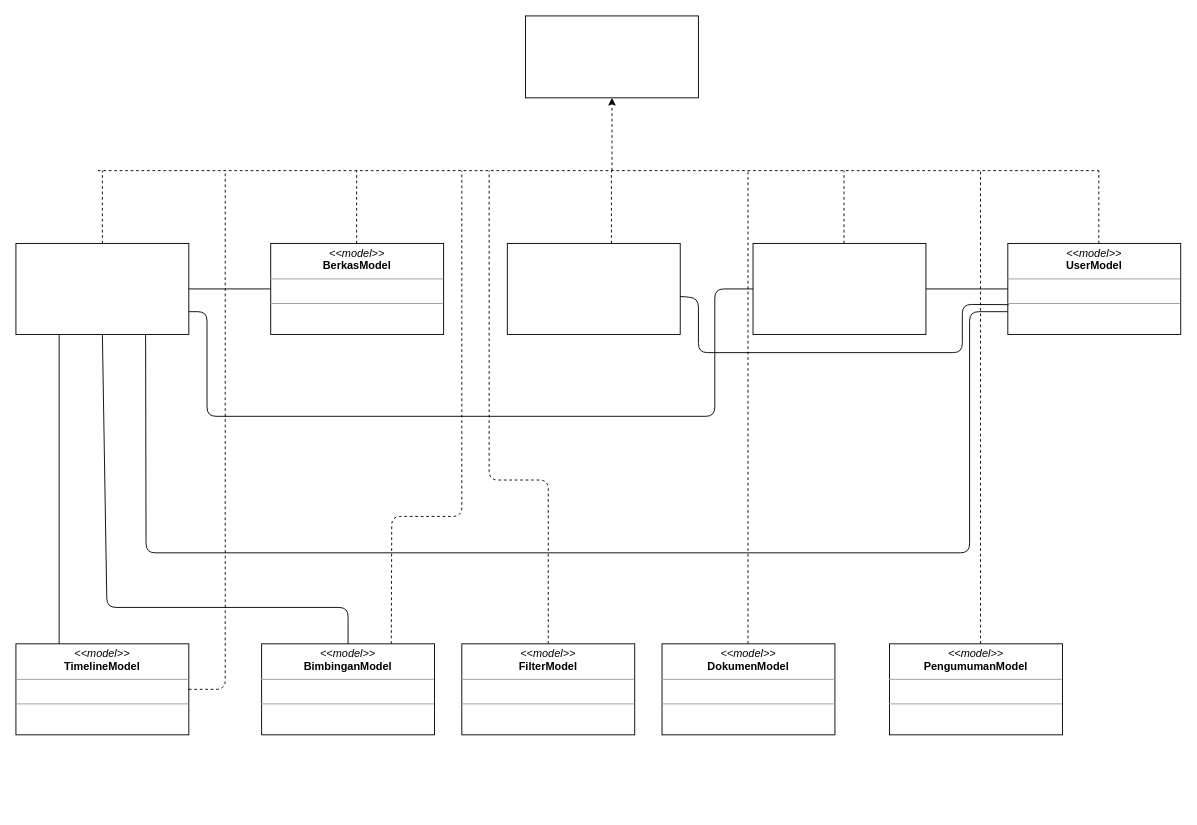
Some shapes in this 1197 by 825 pixel diagram are drawn without their labels. The centre of each missing label's shape, as x and y in pixels:
<<model>> CI_Model: point 611,56
<<model>> JadwalModel: point 839,288
<<model>> SidangModel: point 593,288
<<model>> UserTimelineModel: point 102,288
